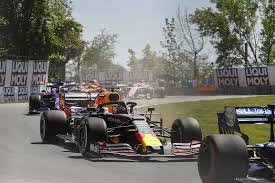FormulaOneCar: (38, 89, 206, 163), (197, 106, 275, 180), (27, 82, 73, 115)
